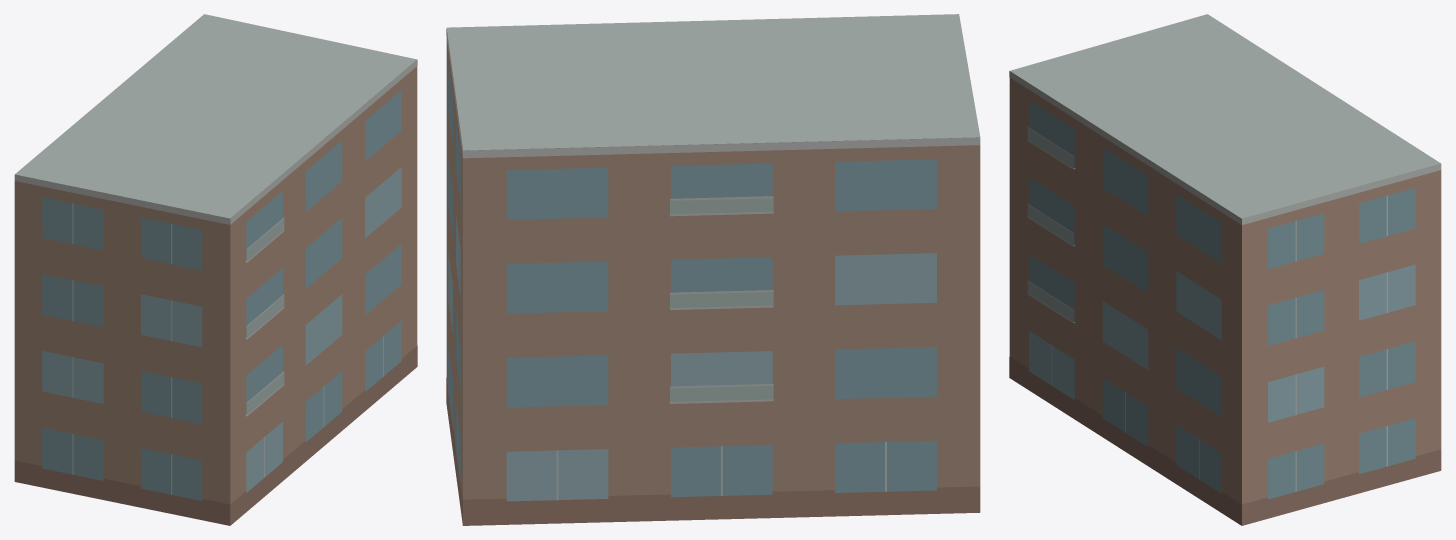
File: survey-upis-32581441.glb
3 views of the same model, side by side, from view 1: azimuth 30°, elevation 25°; view 2: azimuth 150°, elevation 25°; view 3: azimuth 270°, elevation 25° (orthographic). The views are drawn at different scales.
Visible parts, largest first — view 1: survey-upis-32581441.tmp; view 2: survey-upis-32581441.tmp; view 3: survey-upis-32581441.tmp.
Boxes of the visible parts, x1,y1,x2,y2 form: survey-upis-32581441.tmp: (14, 14, 417, 525); survey-upis-32581441.tmp: (446, 14, 980, 525); survey-upis-32581441.tmp: (1009, 14, 1441, 525).
Size of the model in its own units: 16.74 by 11.7 by 14.92.
